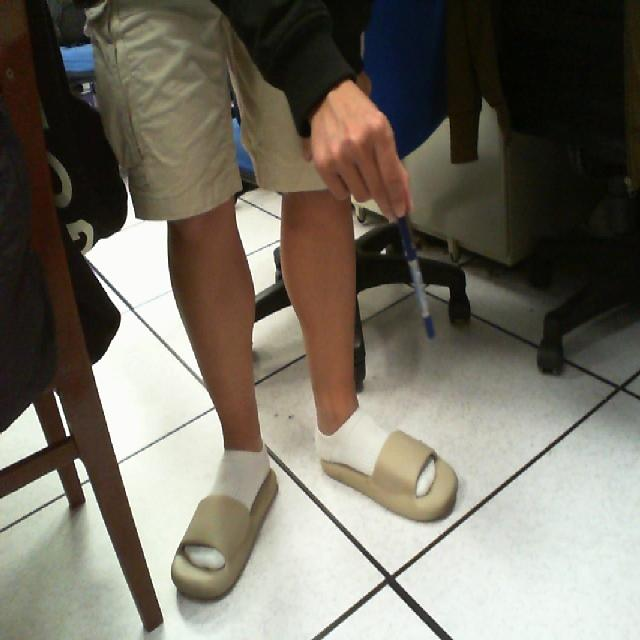Pen: (383, 199, 454, 354)
